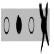correct: (16, 13, 22, 36)
not correct: (38, 1, 50, 53)
